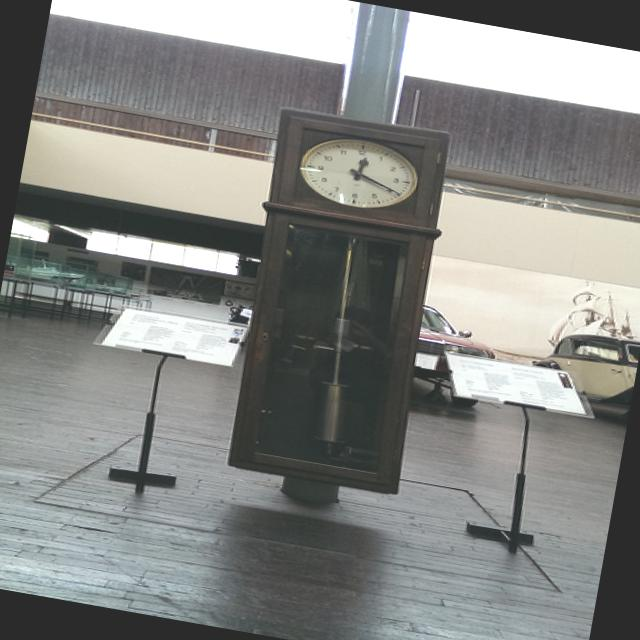Vehicle: (525, 322, 640, 408), (415, 306, 497, 384)
